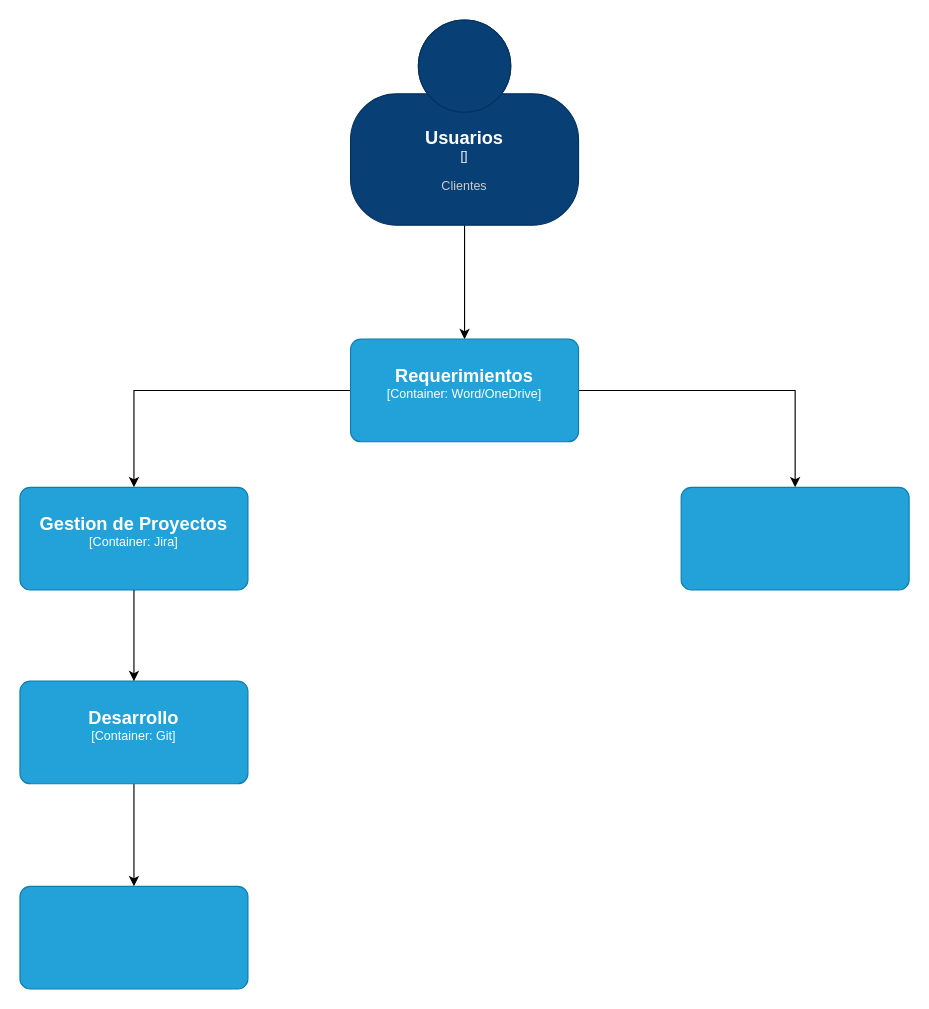
Image size: 929x1009. Some labels were removed from this diagram. Here are the shapes that lost their labels. From the top down, the centre of each, then its label:
[794,538]: Comunicación [Container: Correo/WhatsApp]
[133,937]: Despliegue y entrega [Container: Alibaba Cloud]
